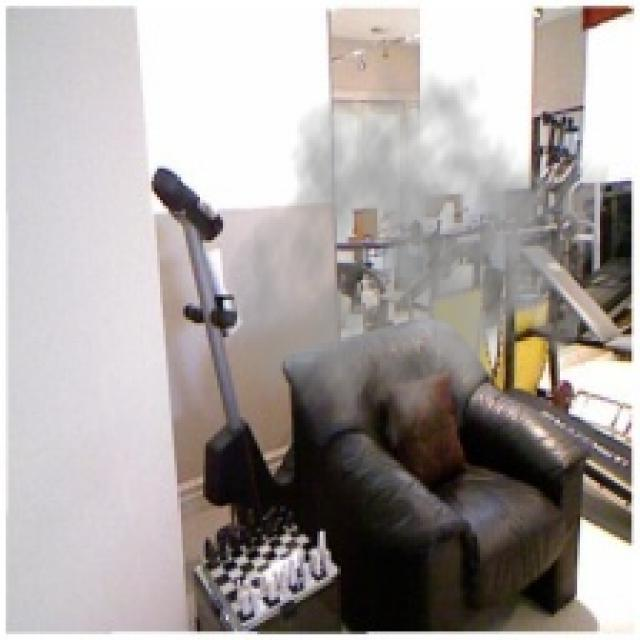Smoke: (219, 54, 612, 469)
